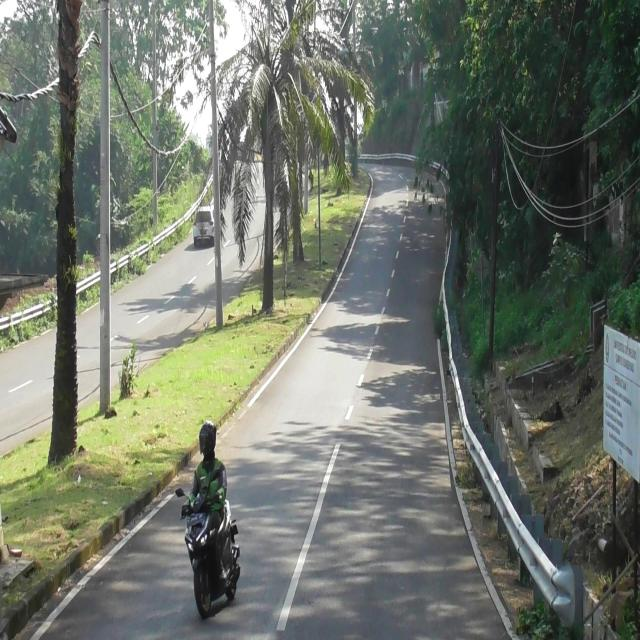motorcycle: (174, 483, 242, 619)
person: (183, 416, 226, 526)
rider_region: (175, 417, 242, 619)
